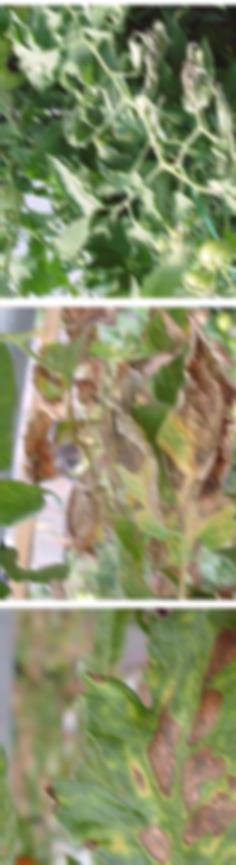Tomato leaf bacterial spot: (61, 619, 236, 865)
